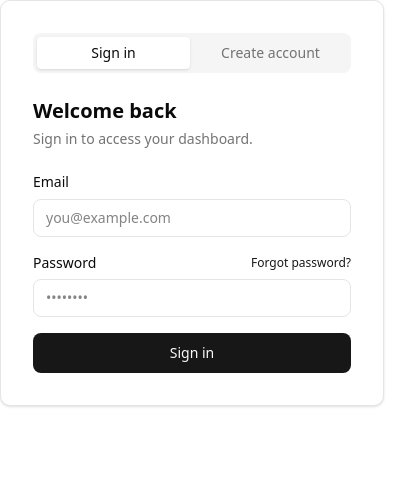
Test: LoginForm › rejects a short password on sign-up
This screenshot has width=401, height=482.
Step 1. Click the button "Create account" → (270, 53), box [194,37,347,69]
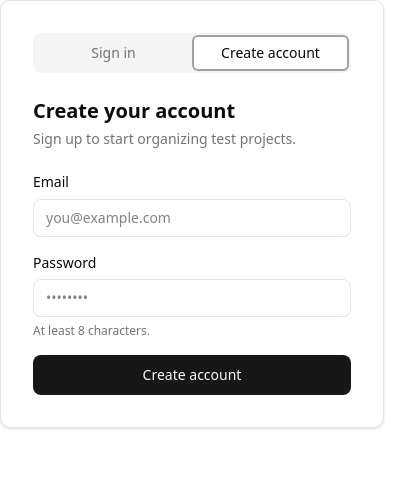
Step 2. Type "new@example.com" into the field labelled "Email" → (192, 218), box [33,199,351,237]
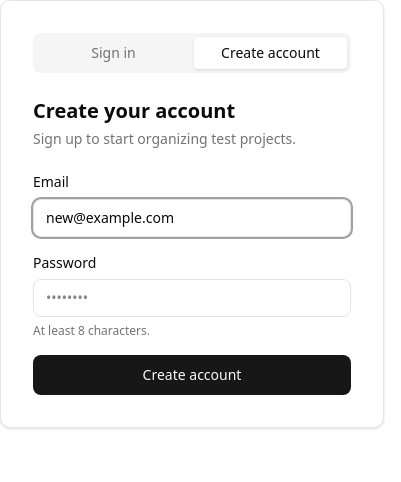
Step 3. Type "short" into the password field labelled "Password" → (192, 298), box [33,279,351,317]
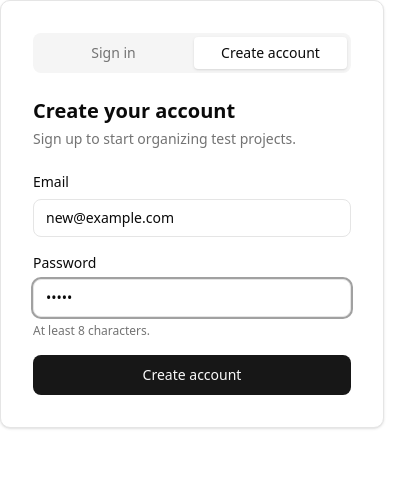
Step 4. Click the button "Create account" below "At least 8 characters." → (192, 375), box [33,355,351,395]
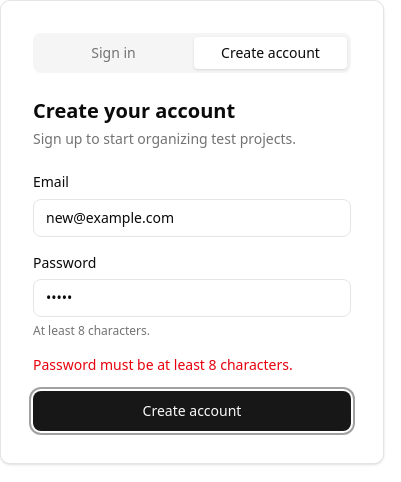
Now the message shows "at least 8 characters", box [33,355,293,374]
